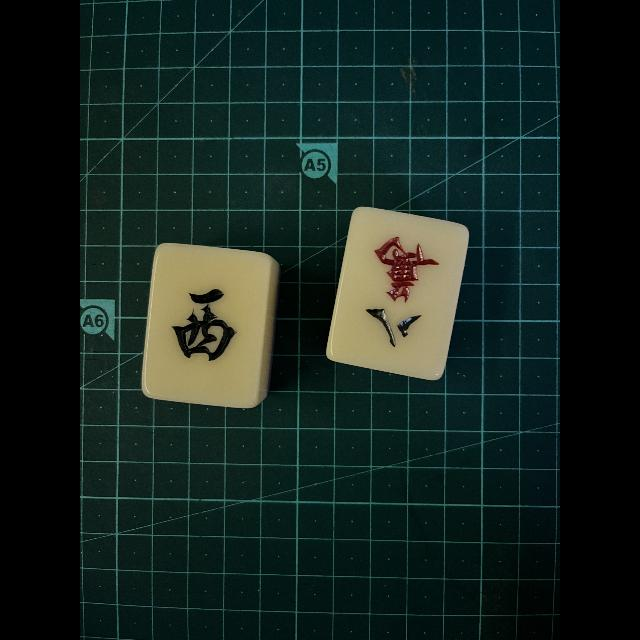c8: (343, 214, 451, 368)
ww: (147, 247, 261, 399)
